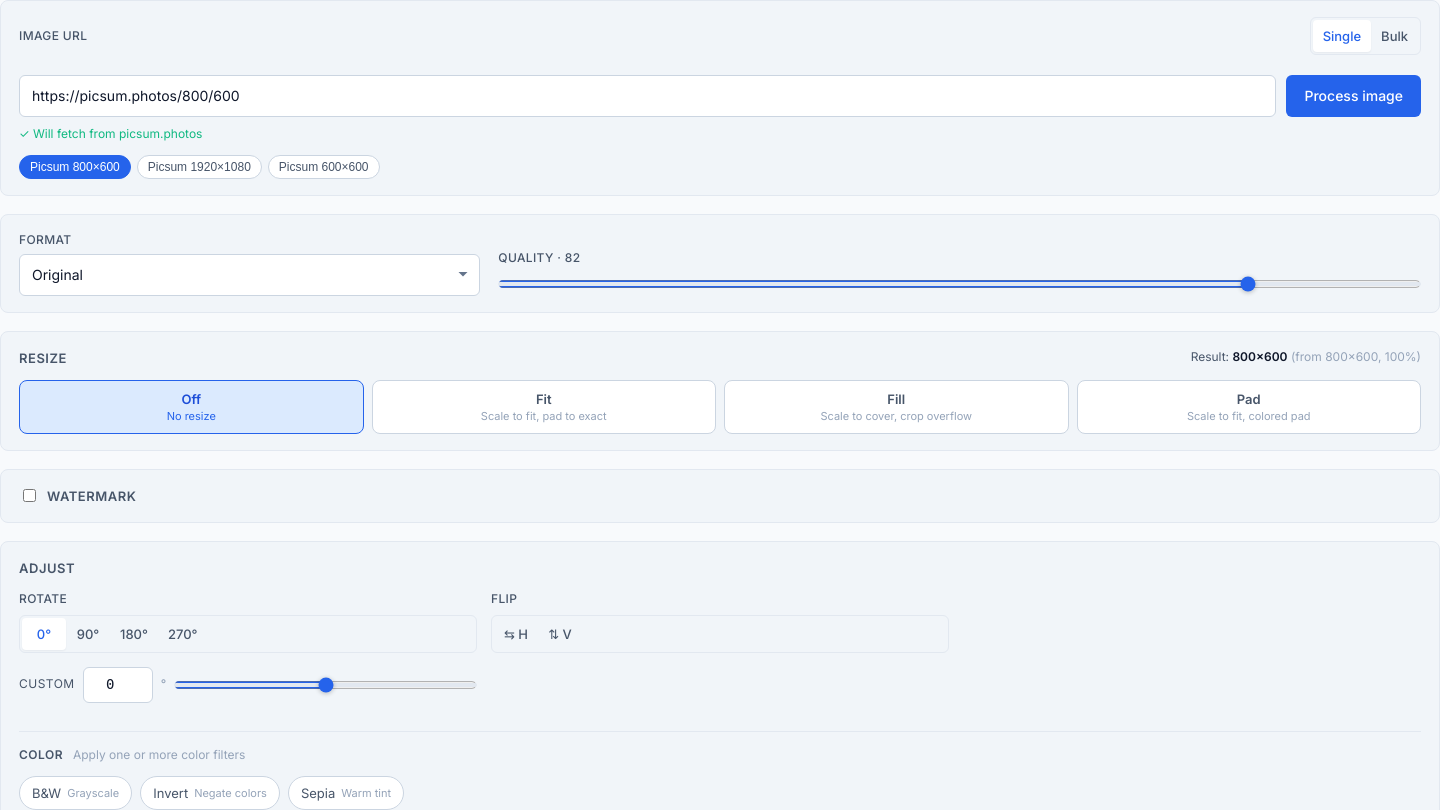
Test case: JobForm › pad mode shows the pad background color picker
Click the radio button labelled "Pad Scale to fit, colored pad" at (1249, 407), box [1076,380,1421,434]
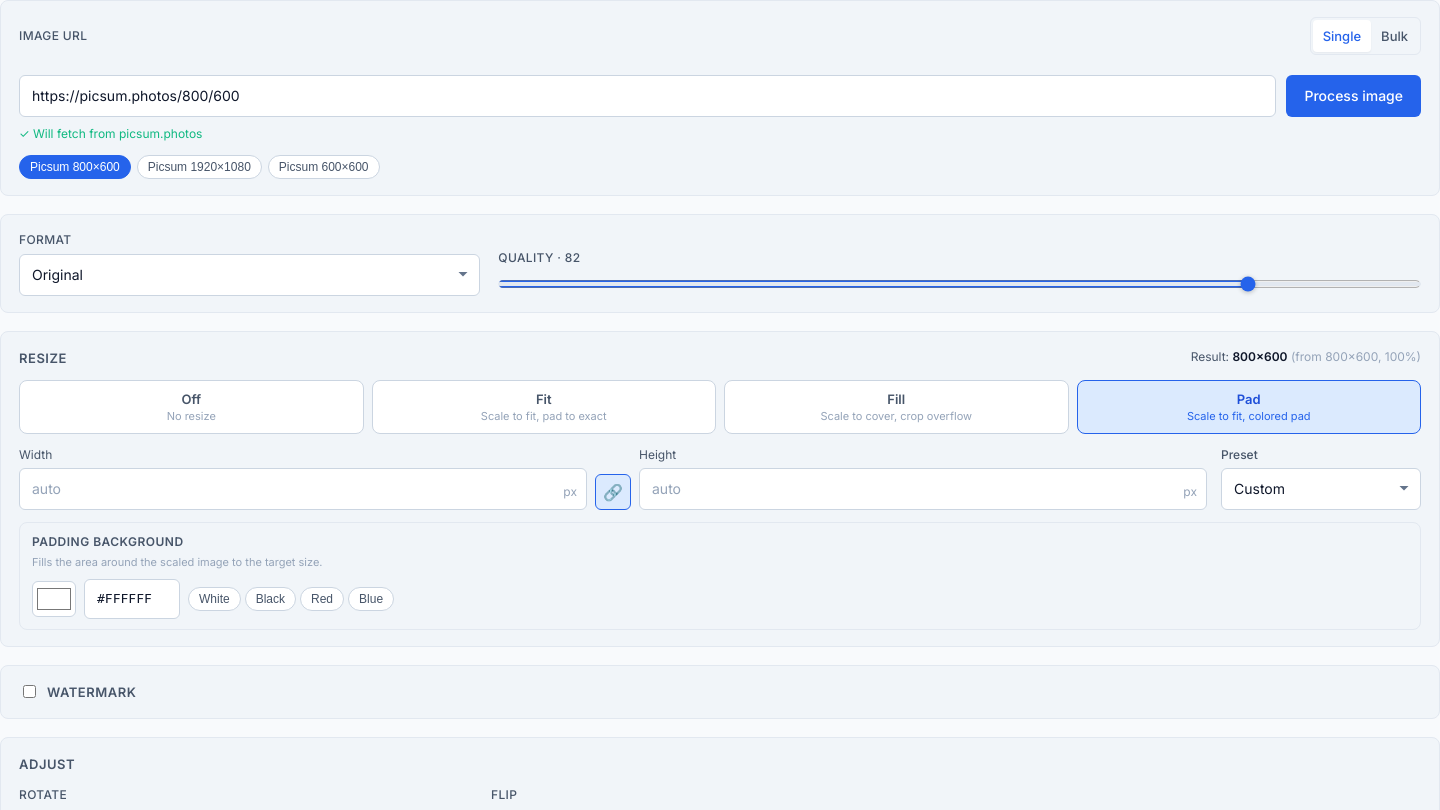
Check: the colour field named "padding background color" is shown, box [32,581,76,617]
